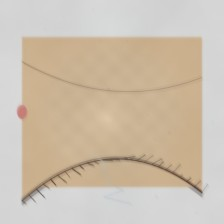foreign_body_visible: (134, 100, 160, 120)
